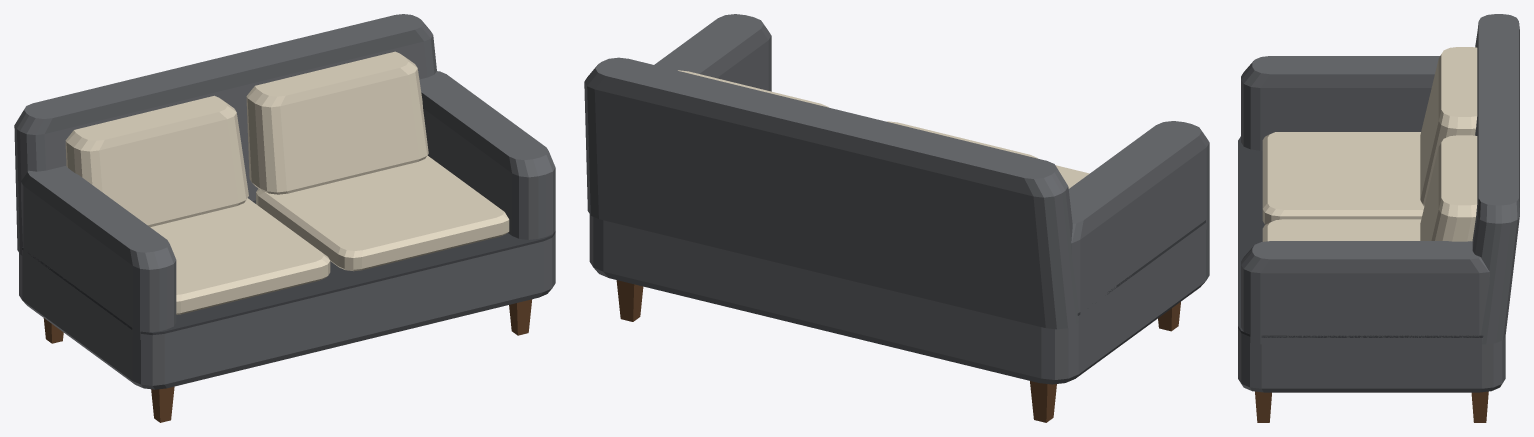
The model's file is FN_Sofa_2Seat.glb.
The picture shows the model from 3 angles, left to right: view 1: azimuth 30°, elevation 25°; view 2: azimuth 150°, elevation 25°; view 3: azimuth 270°, elevation 25°; orthographic projection. The views are drawn at different scales.
Parts seen in each view (by area): view 1: FN_Sofa_2Seat; view 2: FN_Sofa_2Seat; view 3: FN_Sofa_2Seat.
Boxes of the visible parts, x1,y1,x2,y2 form: FN_Sofa_2Seat: (14,14,555,422); FN_Sofa_2Seat: (584,14,1209,422); FN_Sofa_2Seat: (1238,14,1519,422).
Size of the model in its own units: 1.56 by 0.792 by 0.906.
Materials: 1 (1 with a texture image).
